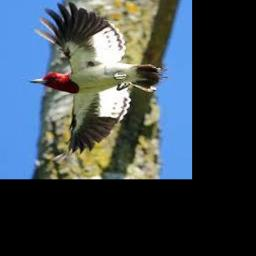Woodpecker: (29, 2, 167, 160)
